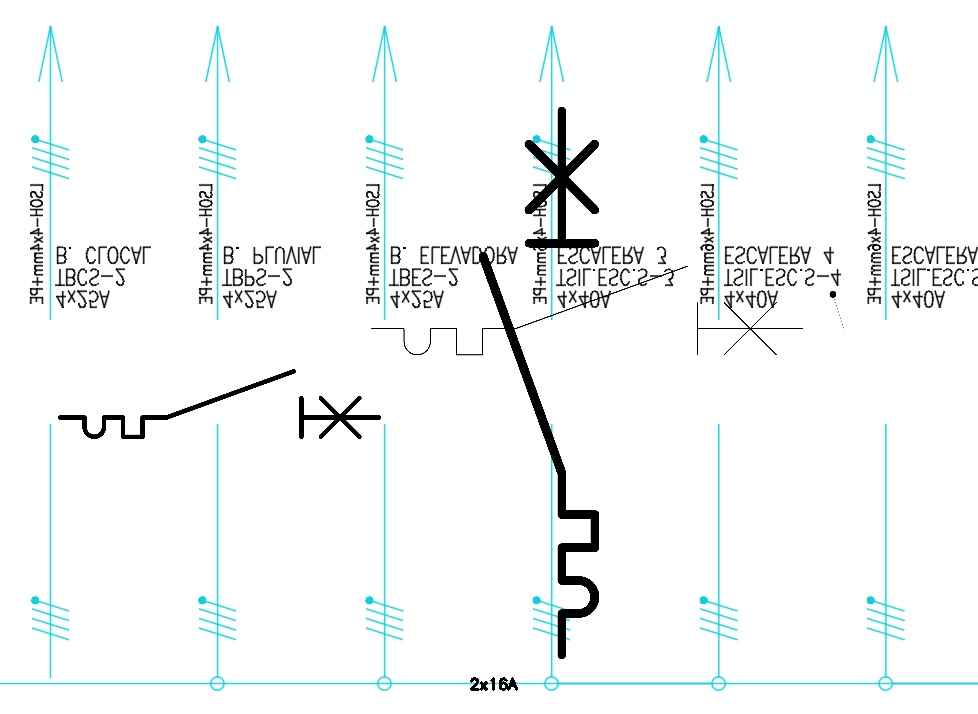interruptor_termomagnetico: (469, 97, 609, 669), (360, 255, 814, 366), (52, 363, 387, 445)
